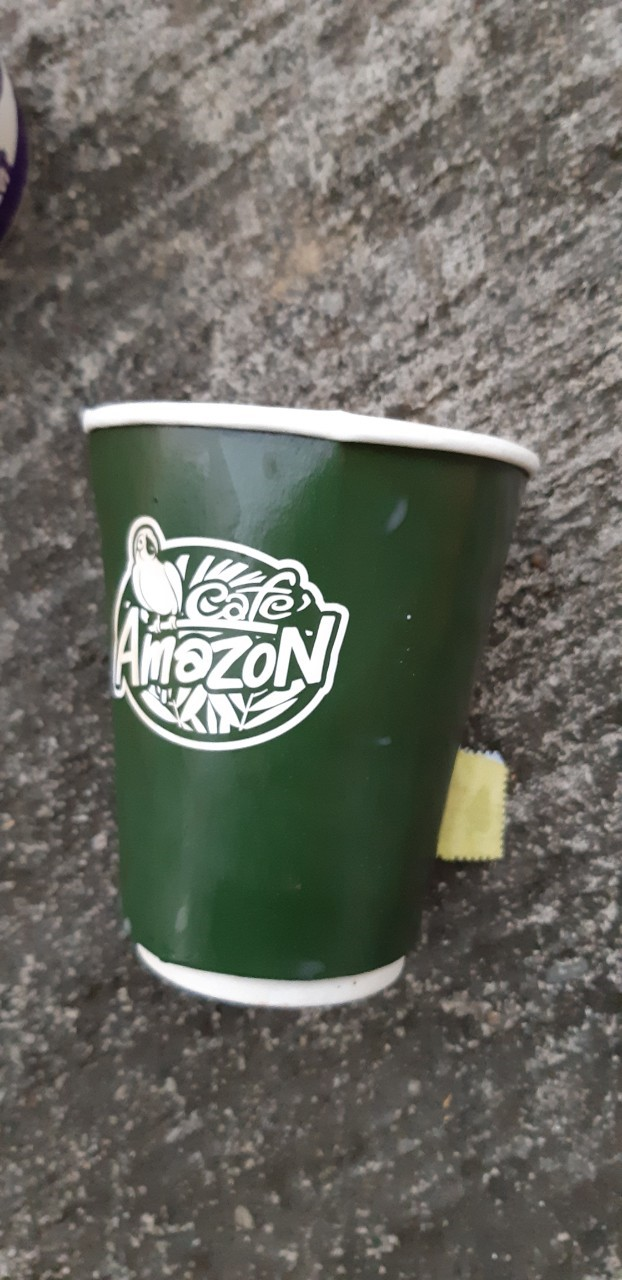PaperCup: (82, 400, 541, 1012)
